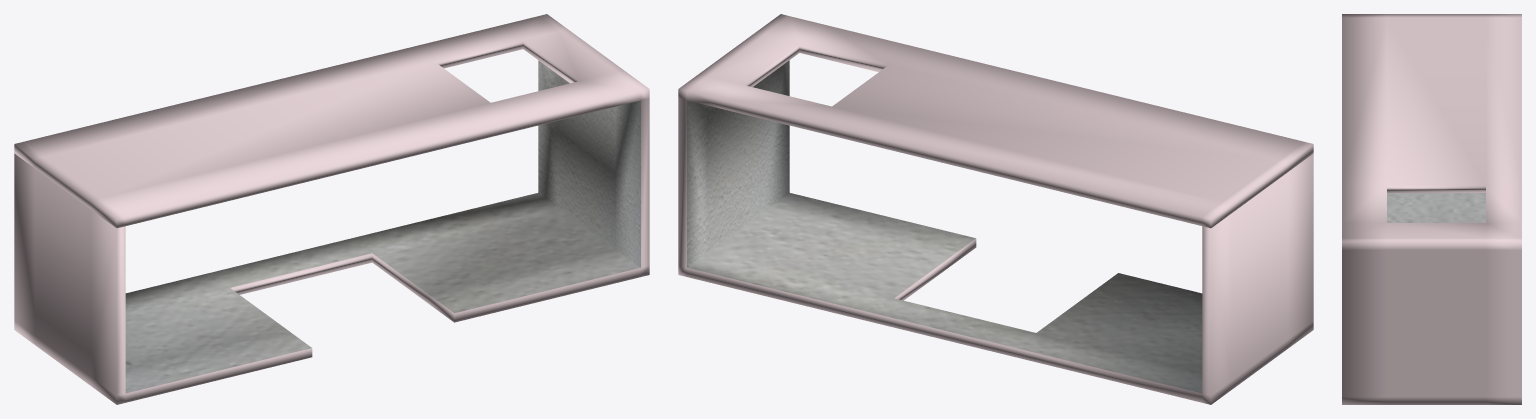
Rendered from wall_bathroom_v2.fbx.
3 views of the same model, side by side, from view 1: azimuth 30°, elevation 25°; view 2: azimuth 150°, elevation 25°; view 3: azimuth 270°, elevation 25° (orthographic). The views are drawn at different scales.
Visible parts, largest first — view 1: Cube.001; view 2: Cube.001; view 3: Cube.001.
Part boxes in pixels (box(x1,y1,x2,y2)): Cube.001: box(14, 14, 649, 404); Cube.001: box(678, 14, 1313, 404); Cube.001: box(1342, 14, 1521, 404).
Bounding box in the file's own units: 0.03 × 0.01 × 0.01.
Materials: 2 (1 with a texture image).
